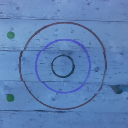Axe Tip: (109, 84, 120, 87)
